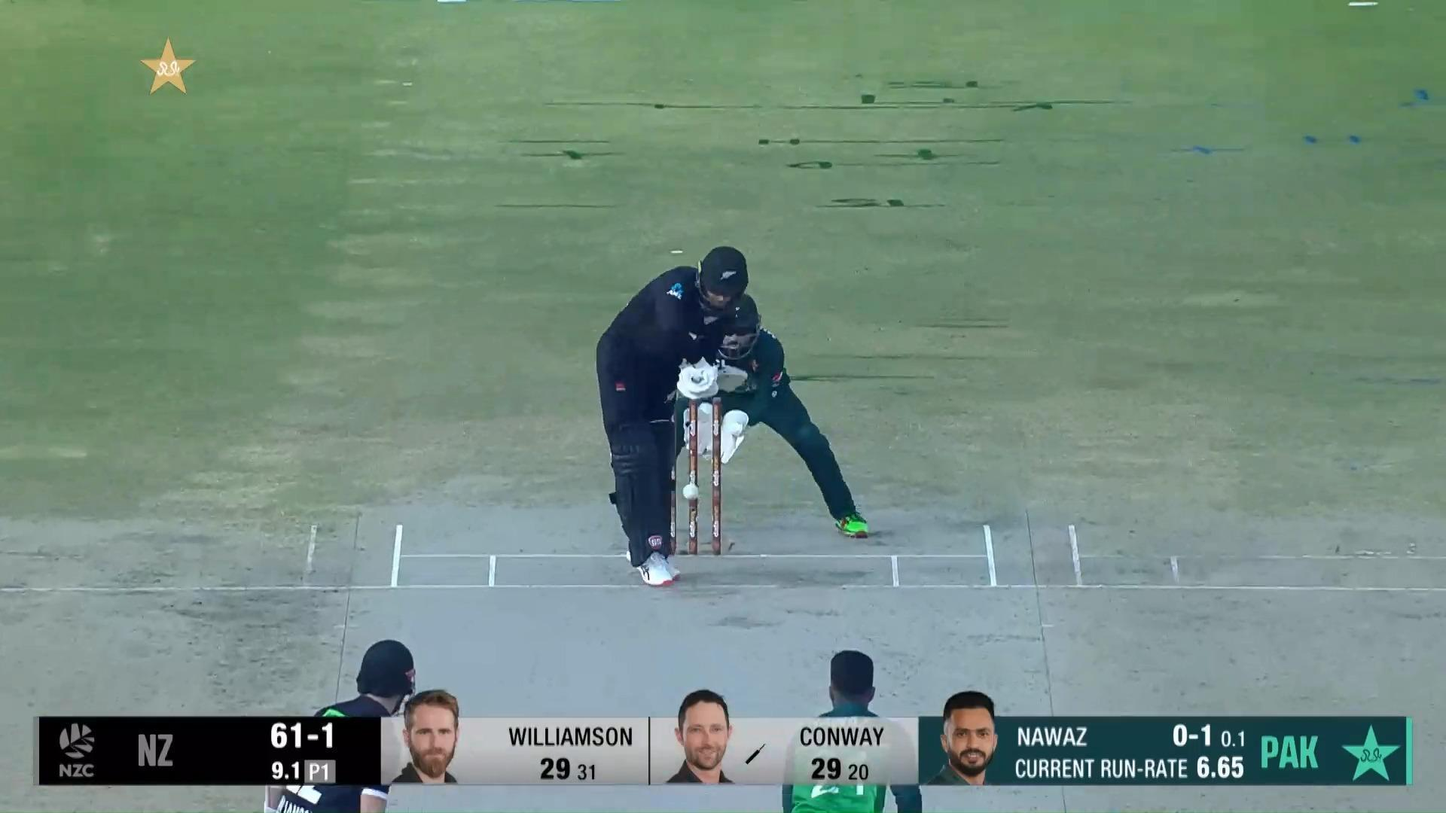BM 1: (595, 244, 755, 591)
BO: (780, 647, 923, 813)
